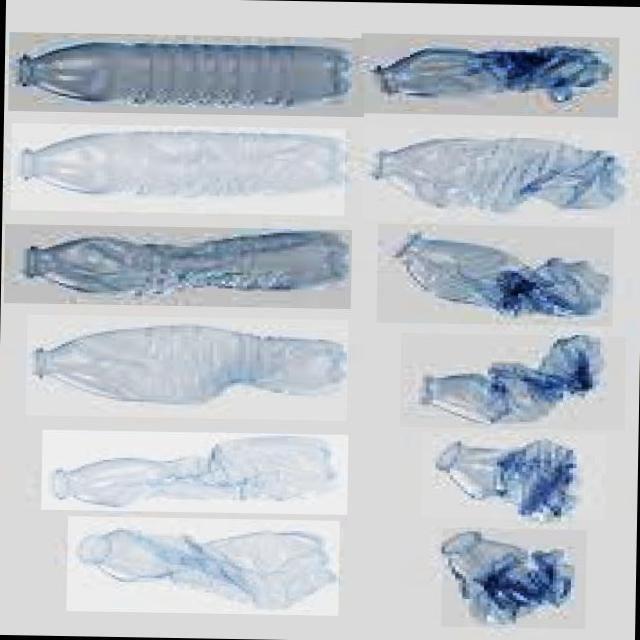defected: (26, 312, 349, 420), (11, 122, 346, 216), (4, 222, 352, 308), (66, 515, 340, 616), (362, 124, 632, 223), (41, 428, 348, 514), (376, 222, 614, 325), (399, 332, 626, 429), (361, 32, 620, 116), (421, 432, 606, 522), (441, 526, 586, 628)
good: (8, 30, 365, 116)
